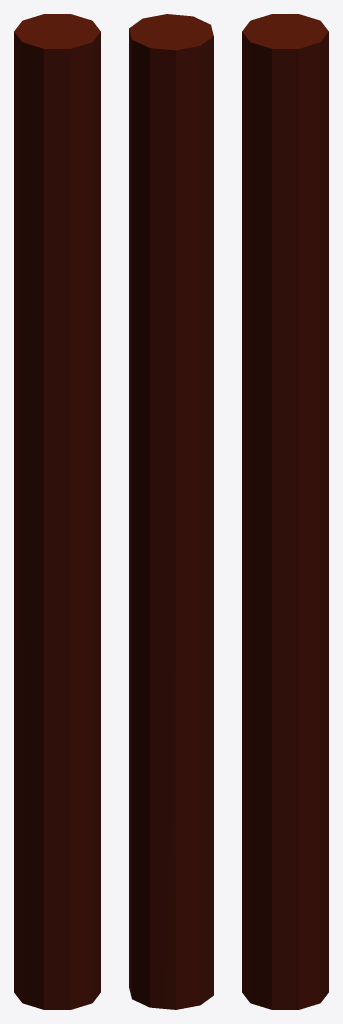
The model's file is Tronco.fbx.
The picture shows the model from 3 angles, left to right: view 1: azimuth 90°, elevation 25°; view 2: azimuth 150°, elevation 25°; view 3: azimuth 270°, elevation 25°; orthographic projection.
Visible parts, largest first — view 1: Tronco; view 2: Tronco; view 3: Tronco.
Boxes of the visible parts, left/top/right/bottom form: Tronco: left=14, top=14, right=100, bottom=1009; Tronco: left=129, top=14, right=213, bottom=1009; Tronco: left=242, top=14, right=328, bottom=1009.
Bounding box in the file's own units: 25.56 × 329 × 26.87.
